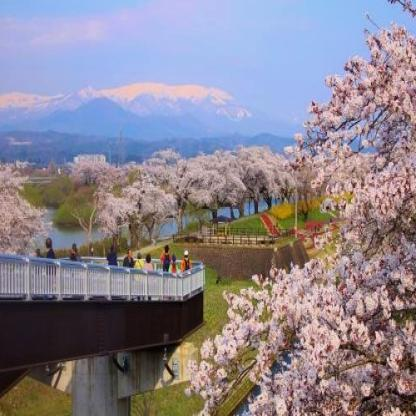Someiyoshino: (177, 5, 415, 413), (66, 146, 357, 236), (1, 162, 49, 250)
